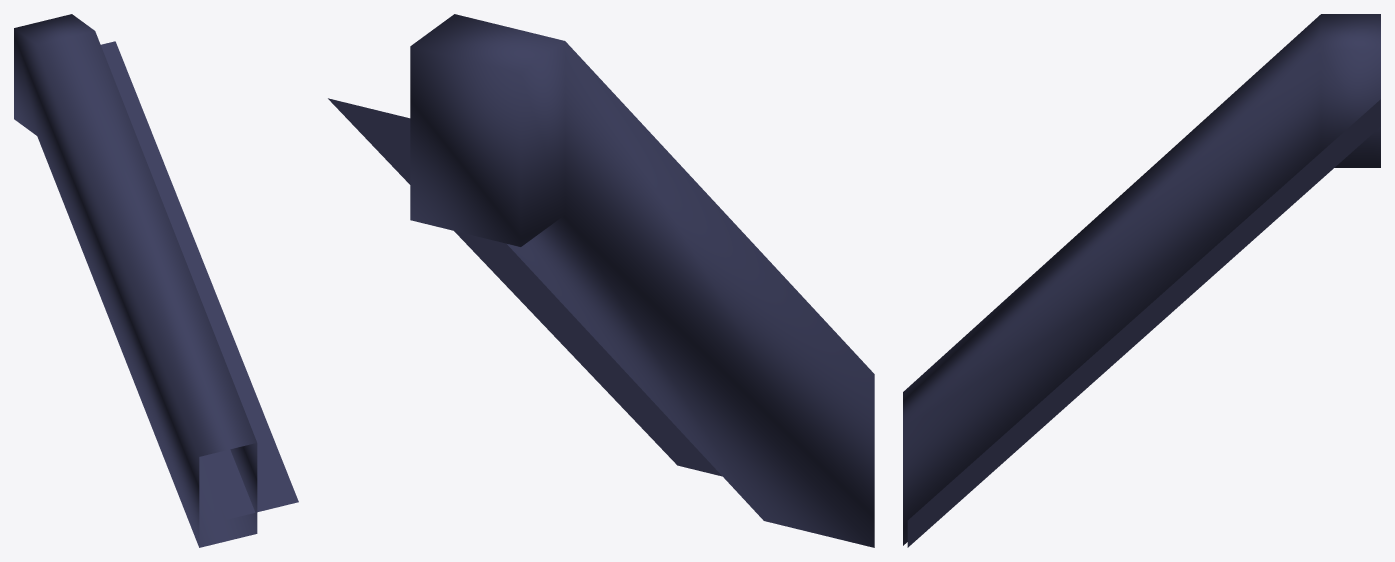
Rendered from Building_Corridor_3.fbx.
3 renders of one model, left to right at view 1: azimuth 30°, elevation 25°; view 2: azimuth 150°, elevation 25°; view 3: azimuth 270°, elevation 25°, orthographic. The views are drawn at different scales.
Parts seen in each view (by area): view 1: Cube.224, Plane.021; view 2: Cube.224, Plane.021; view 3: Cube.224, Plane.021.
Boxes of the visible parts, box(x1,y1,x2,y2) form: Cube.224: box(14, 14, 257, 547); Plane.021: box(101, 41, 298, 519); Cube.224: box(410, 14, 874, 547); Plane.021: box(328, 98, 722, 476); Cube.224: box(903, 14, 1380, 545); Plane.021: box(907, 99, 1380, 547).
Bounding box in the file's own units: 35 × 127 × 111.
